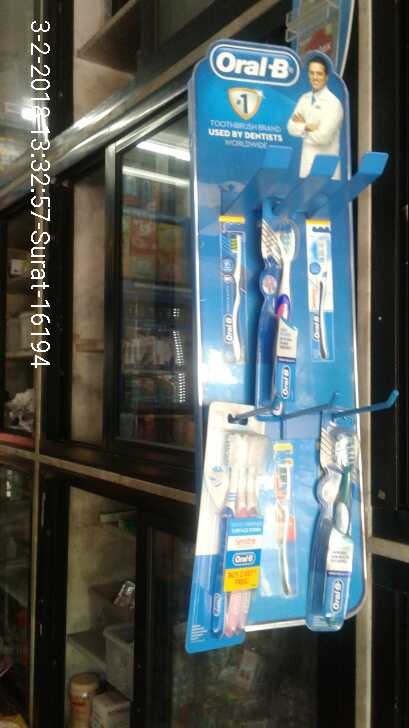oralb: (192, 399, 273, 646), (305, 404, 366, 631)
